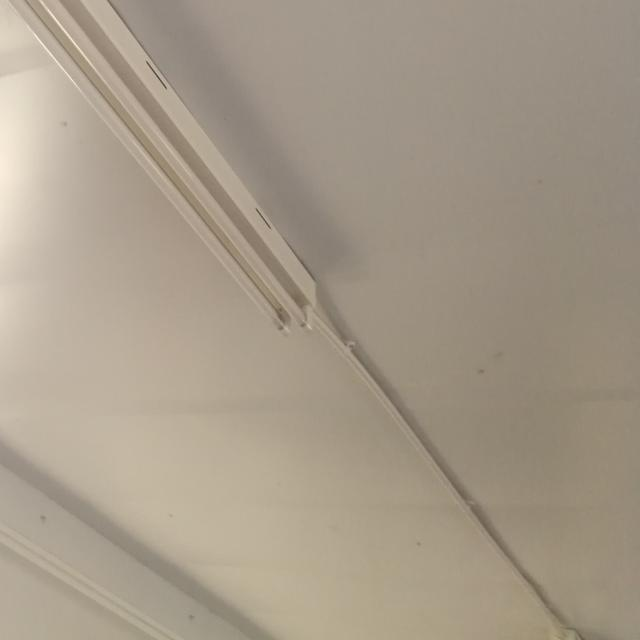fluorescent tube: (0, 0, 362, 371)
